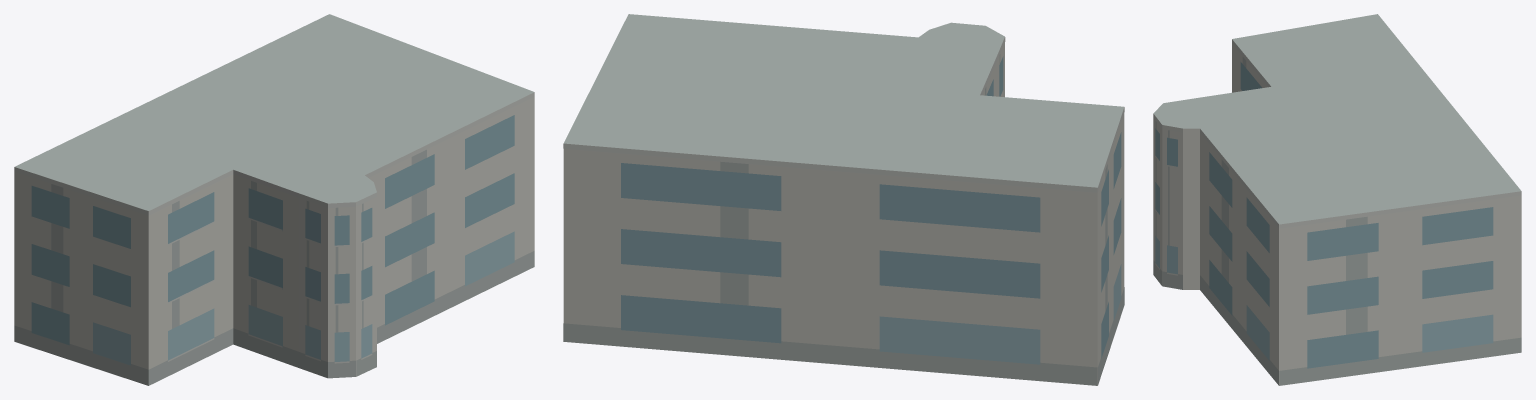
The model's file is survey-upis-32537994.glb.
3 renders of one model, left to right at view 1: azimuth 30°, elevation 25°; view 2: azimuth 150°, elevation 25°; view 3: azimuth 270°, elevation 25°, orthographic. The views are drawn at different scales.
Parts seen in each view (by area): view 1: survey-upis-32537994.tmp; view 2: survey-upis-32537994.tmp; view 3: survey-upis-32537994.tmp.
Boxes of the visible parts, x1=… form: survey-upis-32537994.tmp: x1=14, y1=14, x2=534, y2=385; survey-upis-32537994.tmp: x1=563, y1=14, x2=1124, y2=385; survey-upis-32537994.tmp: x1=1153, y1=14, x2=1521, y2=385.
Size of the model in its own units: 25.6 by 9.15 by 18.94.
